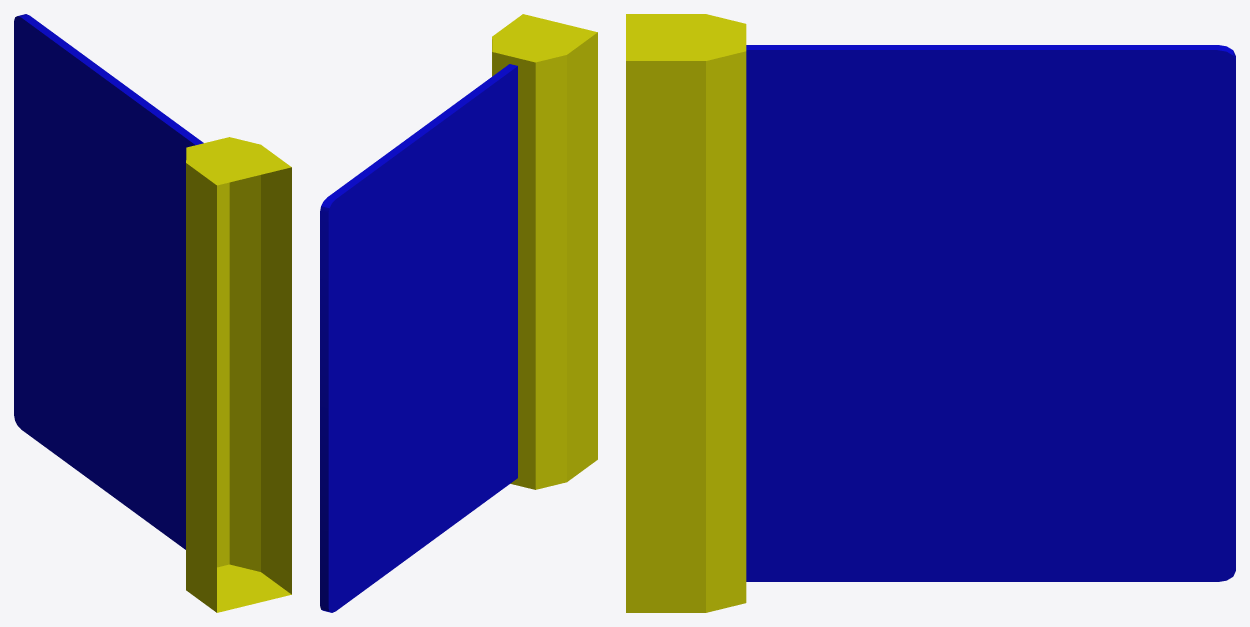
Rendered from Extinguisher Sign.fbx.
3 views of the same model, side by side, from view 1: azimuth 30°, elevation 25°; view 2: azimuth 150°, elevation 25°; view 3: azimuth 270°, elevation 25° (orthographic). The views are drawn at different scales.
Visible parts, largest first — view 1: Extinguisher sign; view 2: Extinguisher sign; view 3: Extinguisher sign.
Part boxes in pixels (<box>): Extinguisher sign: <box>14,14,291,612</box>; Extinguisher sign: <box>320,14,597,612</box>; Extinguisher sign: <box>626,14,1235,612</box>.
Size of the model in its own units: 2.66 by 14.5 by 14.52.
